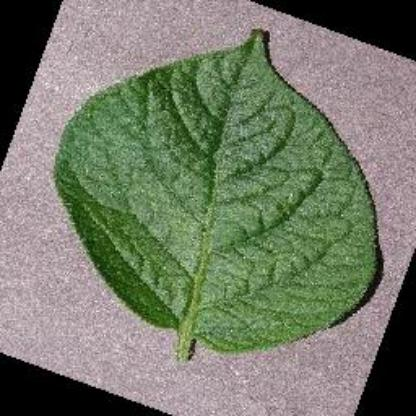Healthy-plant: (51, 30, 383, 372)
